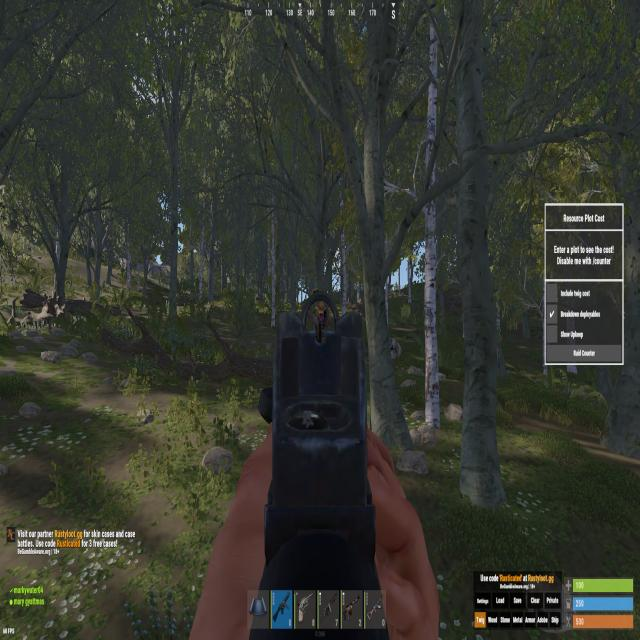Player: (311, 300, 329, 332)
